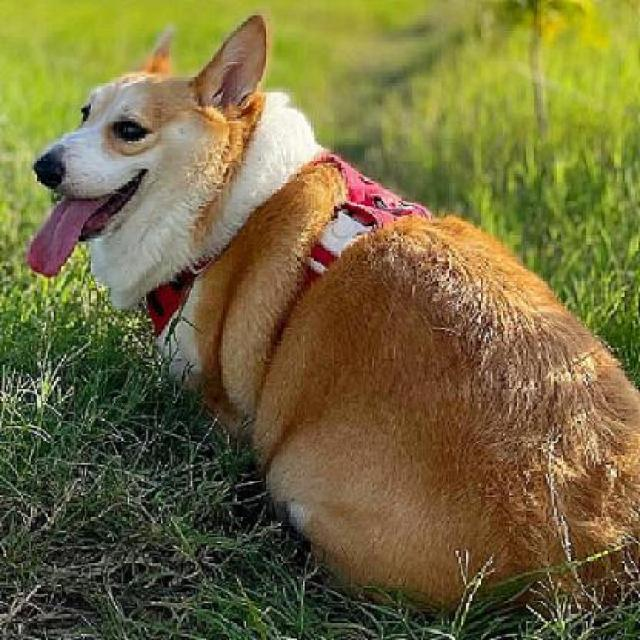Dog: (26, 14, 639, 617)
